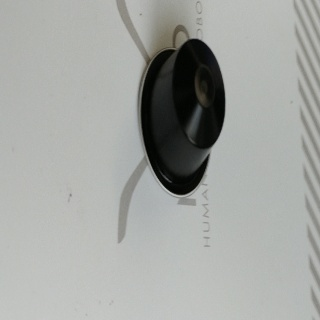capsule_10: (137, 38, 226, 199)
